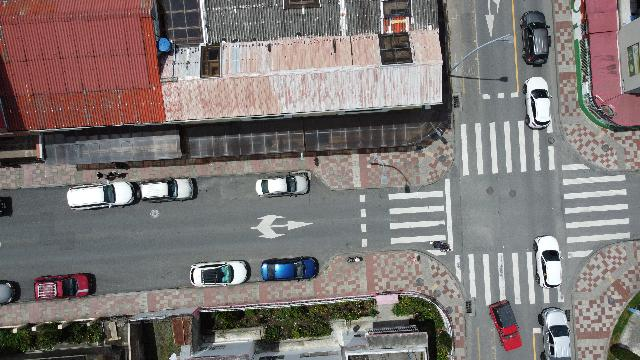Vehiculo: (68, 180, 135, 210), (538, 308, 572, 360), (34, 272, 96, 300), (522, 76, 552, 130), (520, 12, 550, 66), (490, 300, 522, 350), (532, 236, 562, 288), (190, 260, 250, 286), (262, 256, 318, 282), (140, 178, 196, 202), (256, 173, 310, 197), (0, 280, 21, 305)
